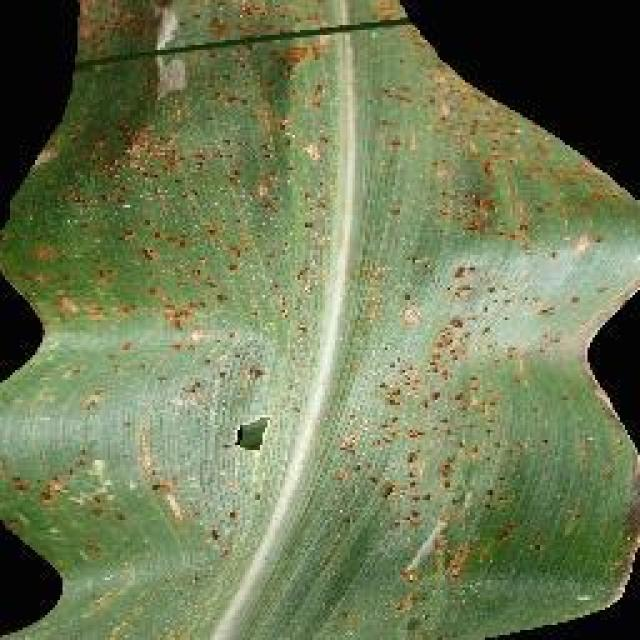Corn Common Rust: (77, 72, 575, 640)
